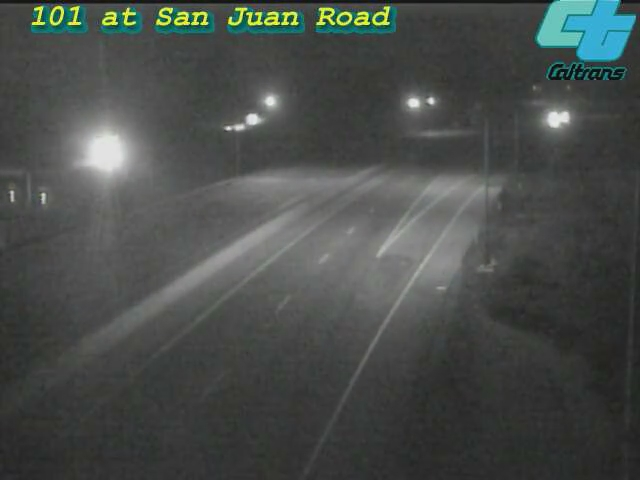vehicle: (528, 95, 578, 145), (542, 92, 592, 142)
